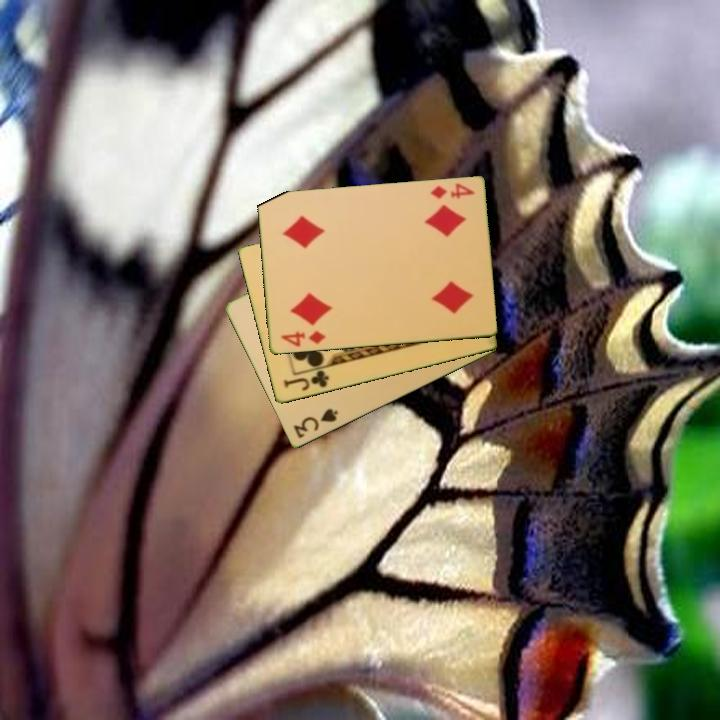3s: (290, 405, 341, 442)
4d: (277, 327, 328, 350), (427, 180, 477, 202)
Jc: (280, 367, 332, 394)
